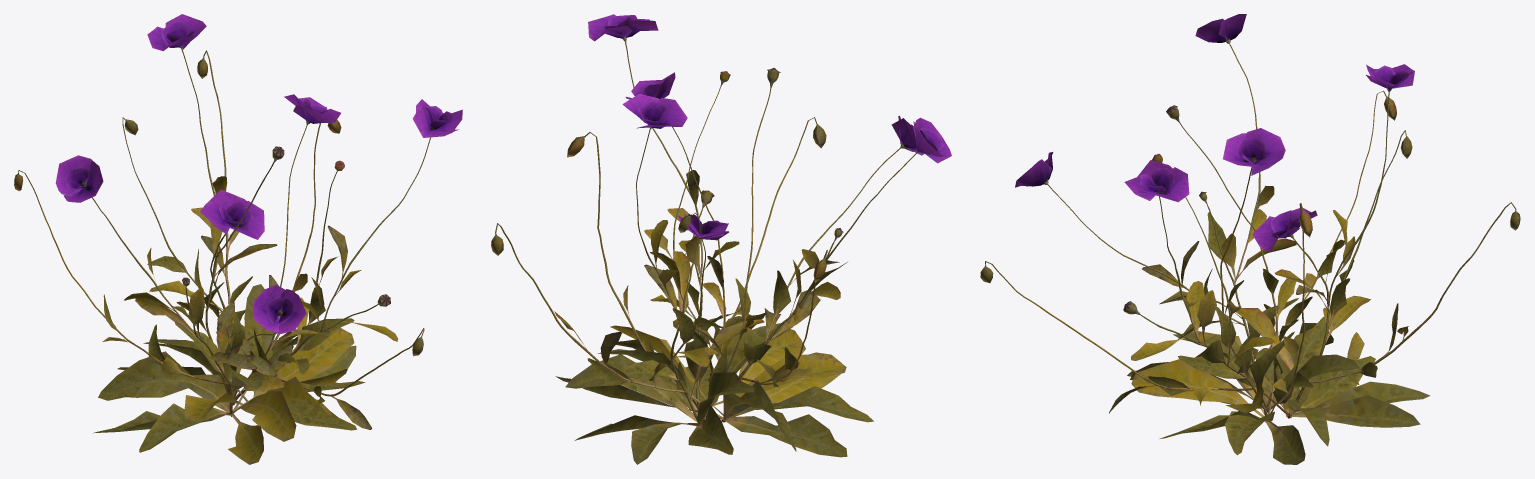
The model's file is Poppy_bush_long_purple.glb.
3 renders of one model, left to right at view 1: azimuth 30°, elevation 25°; view 2: azimuth 150°, elevation 25°; view 3: azimuth 270°, elevation 25°, orthographic. The views are drawn at different scales.
Visible parts, largest first — view 1: large bush; view 2: large bush; view 3: large bush.
Part boxes in pixels (x1,y1,x2,y2): large bush: [14, 14, 462, 464]; large bush: [491, 14, 951, 464]; large bush: [980, 14, 1520, 464].
Bounding box in the file's own units: 6 × 5.32 × 7.44.
Materials: 1 (1 with a texture image).
